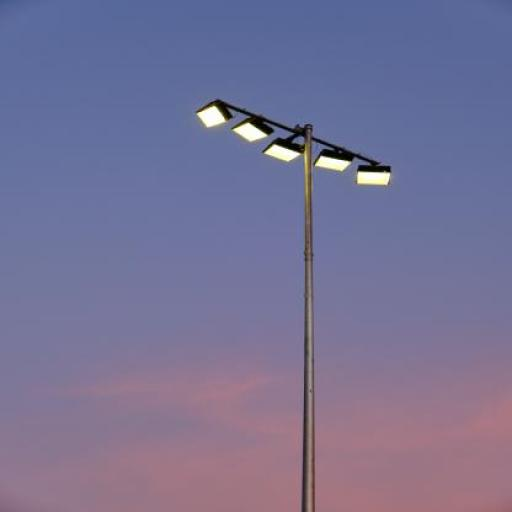street light: (194, 98, 394, 512)
